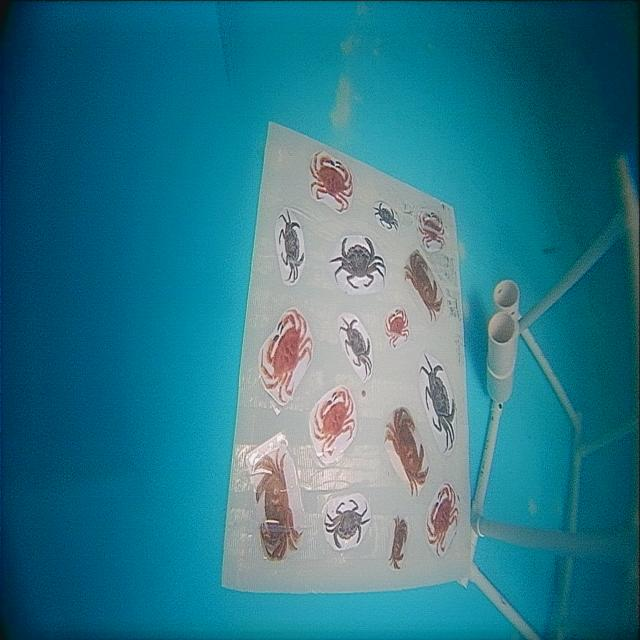GreenCrab: (421, 355, 455, 450), (330, 239, 385, 289), (339, 319, 372, 377), (279, 210, 304, 282), (375, 202, 398, 229)
